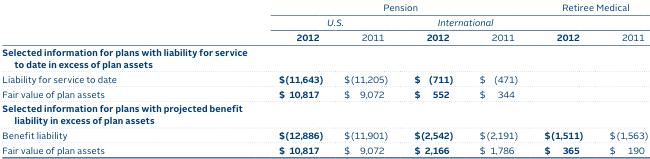table: (1, 1, 647, 156)
table column: (1, 1, 196, 156), (196, 1, 332, 156), (332, 1, 400, 156), (400, 1, 465, 156), (465, 1, 530, 156), (530, 1, 595, 156), (595, 1, 647, 156)
table column header: (1, 1, 647, 44)
table projected row header: (1, 44, 647, 71), (1, 100, 647, 127)
table row: (1, 44, 647, 71), (1, 100, 647, 127), (1, 14, 647, 29), (1, 29, 647, 44), (1, 85, 647, 100), (1, 127, 647, 142), (1, 71, 647, 85), (1, 142, 647, 156), (1, 1, 647, 14)
table spanning cell: (196, 1, 530, 14), (196, 14, 400, 29), (400, 14, 530, 29), (530, 14, 595, 44), (595, 14, 647, 44), (530, 1, 647, 14)
